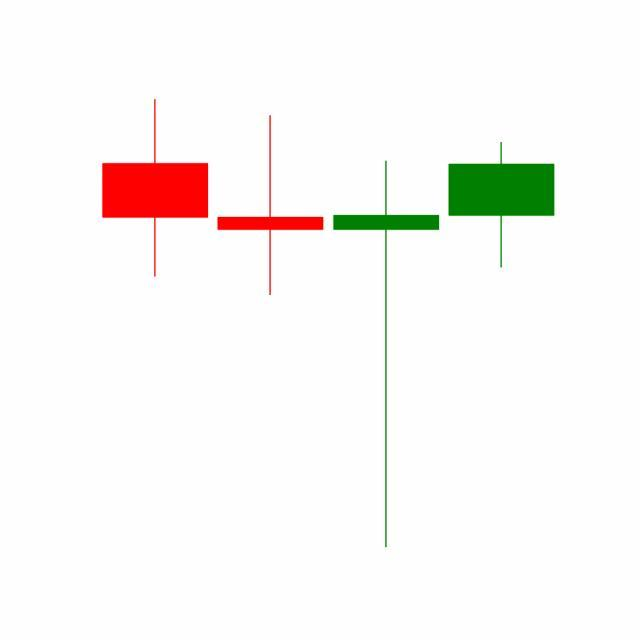Spinning Top: (329, 157, 445, 553)
